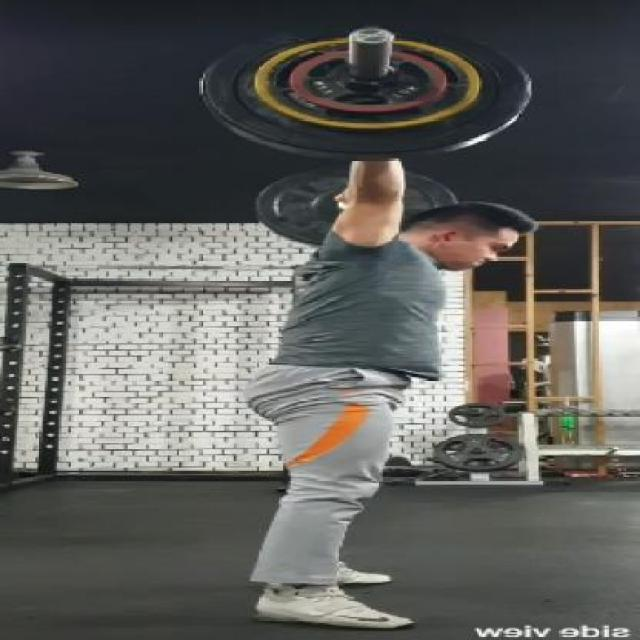Barbell: (345, 24, 393, 44)
